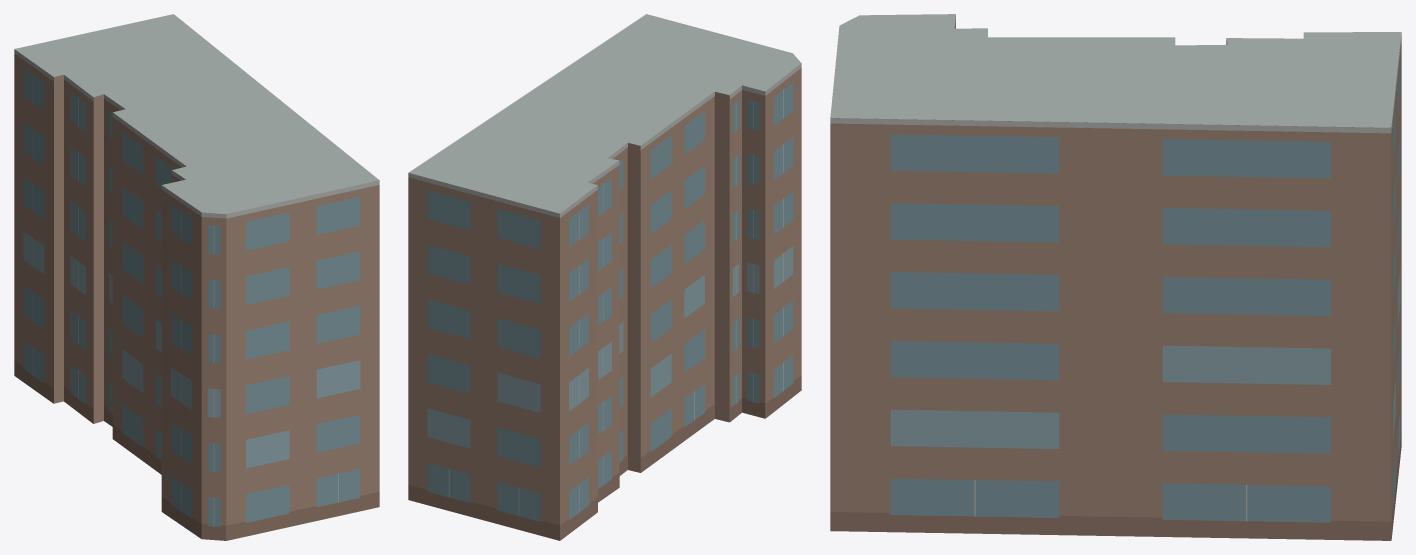
Rendered from survey-upis-32931049.glb.
3 renders of one model, left to right at view 1: azimuth 30°, elevation 25°; view 2: azimuth 150°, elevation 25°; view 3: azimuth 270°, elevation 25°, orthographic. The views are drawn at different scales.
Parts seen in each view (by area): view 1: survey-upis-32931049.tmp; view 2: survey-upis-32931049.tmp; view 3: survey-upis-32931049.tmp.
Part boxes in pixels (left/top/right/bottom): survey-upis-32931049.tmp: left=14, top=14, right=379, bottom=540; survey-upis-32931049.tmp: left=408, top=14, right=801, bottom=540; survey-upis-32931049.tmp: left=830, top=14, right=1401, bottom=540.
Size of the model in its own units: 10.64 by 18 by 22.57.
